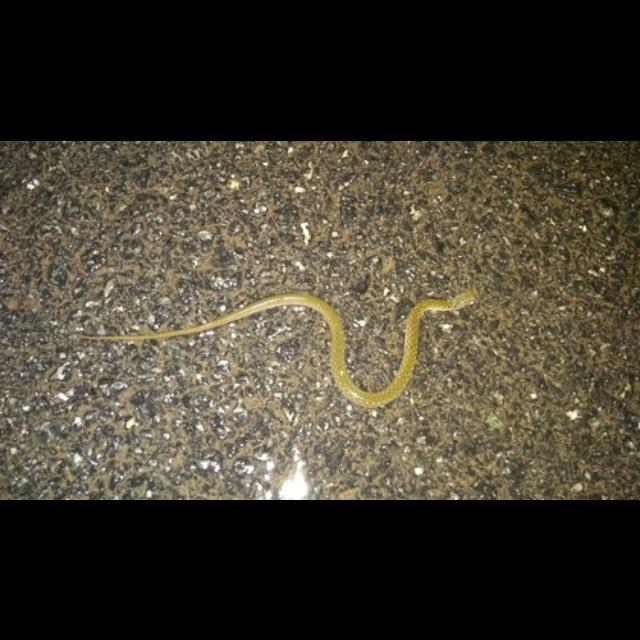snake: (80, 286, 478, 409)
